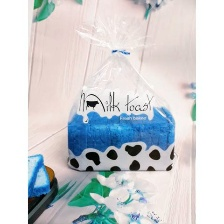snack: (56, 8, 182, 178)
